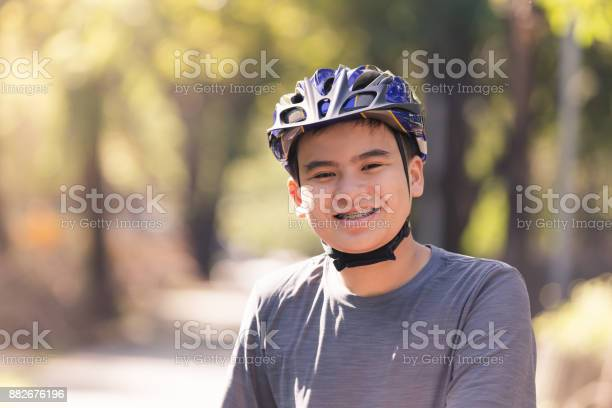helmet: (267, 64, 429, 271)
